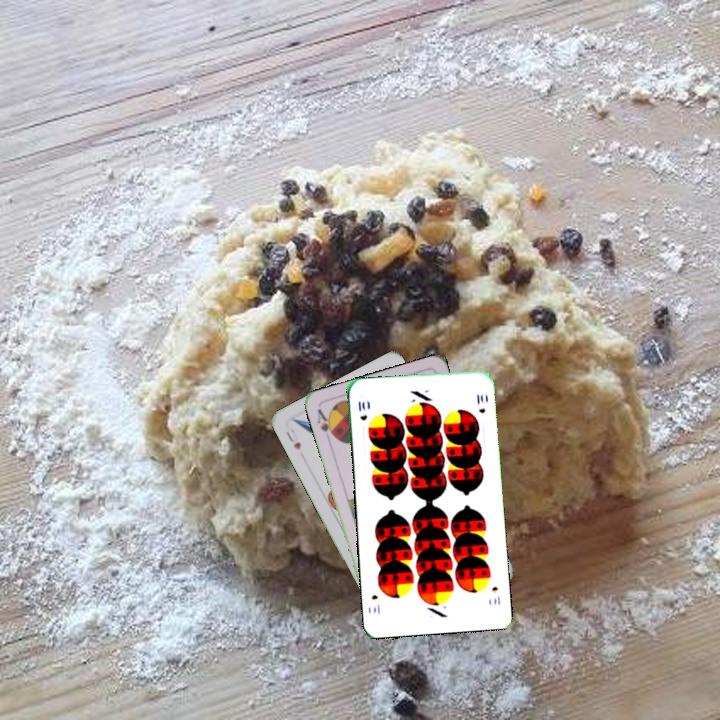HU: (282, 424, 303, 453)
S10: (354, 397, 369, 423), (488, 583, 503, 607)
SA: (313, 404, 339, 444)
